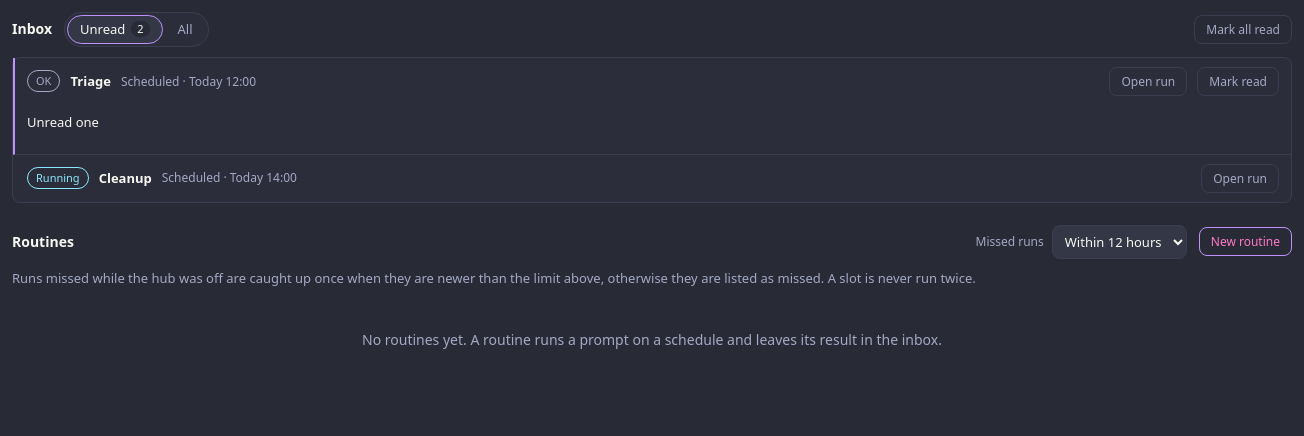
Scenario: the inbox shows unread results first, with a filter for all and an unread count
Expected: the text "Triage" is shown, top-left (70, 72), bottom-right (111, 91)
Expected: the text "Backup" is not shown
Click the button "All": (185, 29) top-left (165, 15), bottom-right (206, 44)
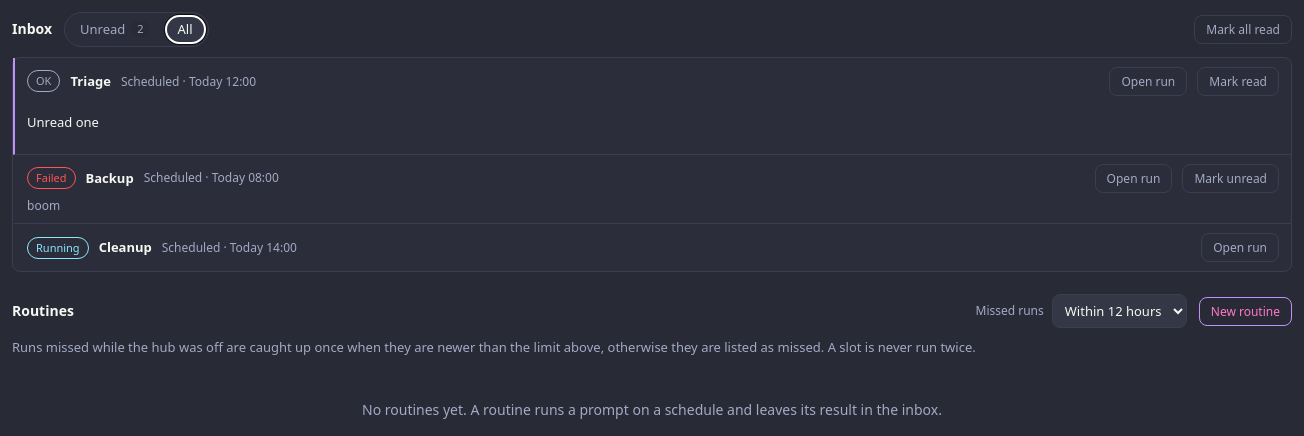
Now the text "Backup" is shown, box top-left (86, 169), bottom-right (134, 188)
Click the button "Unread 2": (115, 29) top-left (67, 15), bottom-right (163, 44)
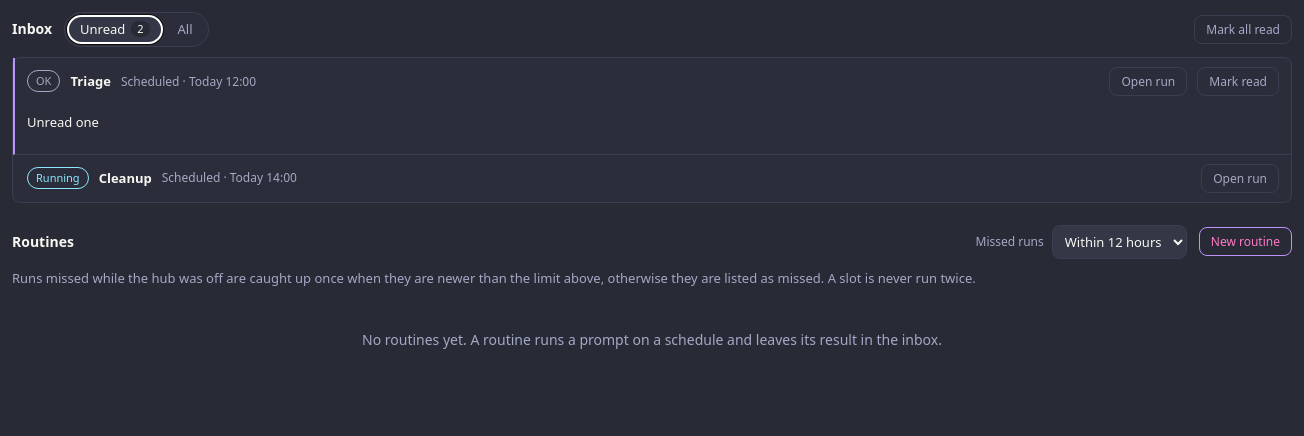
Now the text "Backup" is gone
